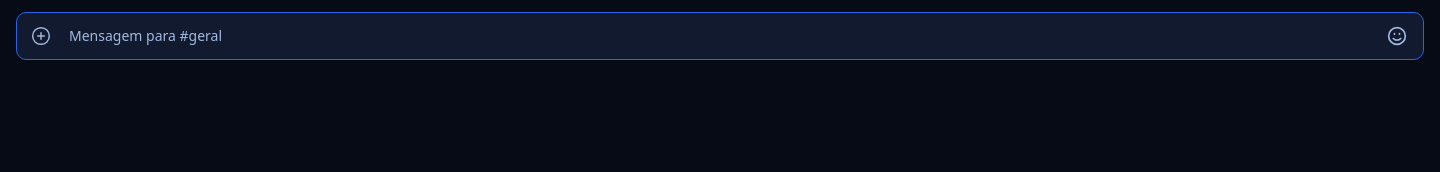
Scenario: a sugestão de nicks › as setas andam e o Enter escolhe, sem mandar a mensagem
Later steps or results of the test are not shown.
Type "oi @an" into the text box labelled "Mensagem para #geral" at (719, 36), box [59,13,1379,59]
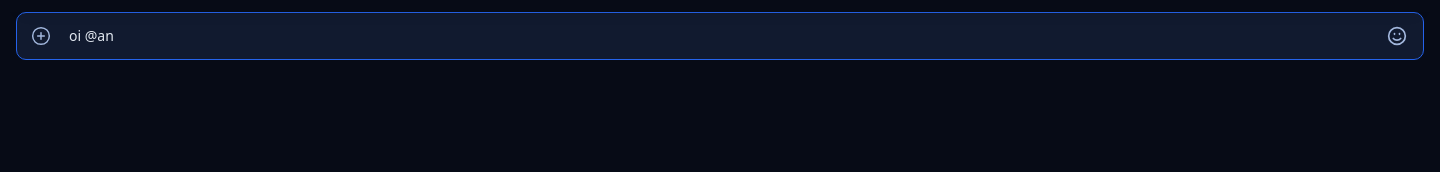
Press Arrowdown
Press Enter
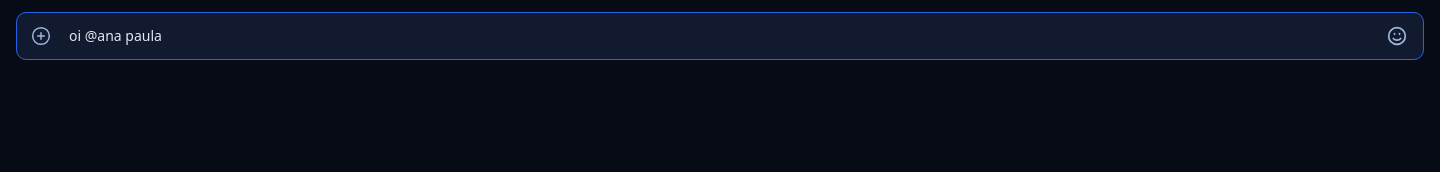
Expected: the text box named "Mensagem para #geral" holds "oi @ana paula ", [59,13,1379,59]
